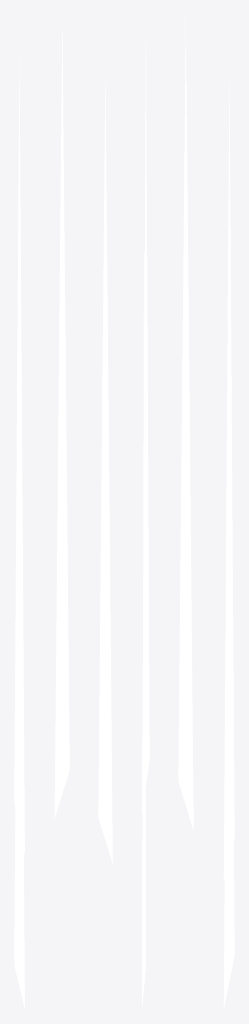
File: cannon1.glb
The picture shows the model from 3 angles, left to right: view 1: azimuth 90°, elevation 25°; view 2: azimuth 150°, elevation 25°; view 3: azimuth 270°, elevation 25°; orthographic projection. The views are drawn at different scales.
Visible parts, largest first — view 1: group_13; view 2: group_13; view 3: group_13.
Boxes of the visible parts, x1=… form: group_13: x1=14, y1=29, x2=69, y2=1008; group_13: x1=98, y1=43, x2=149, y2=1008; group_13: x1=178, y1=15, x2=234, y2=1009.
Bounding box in the file's own units: 150 × 2948 × 150.
1 material, 1 textured.
